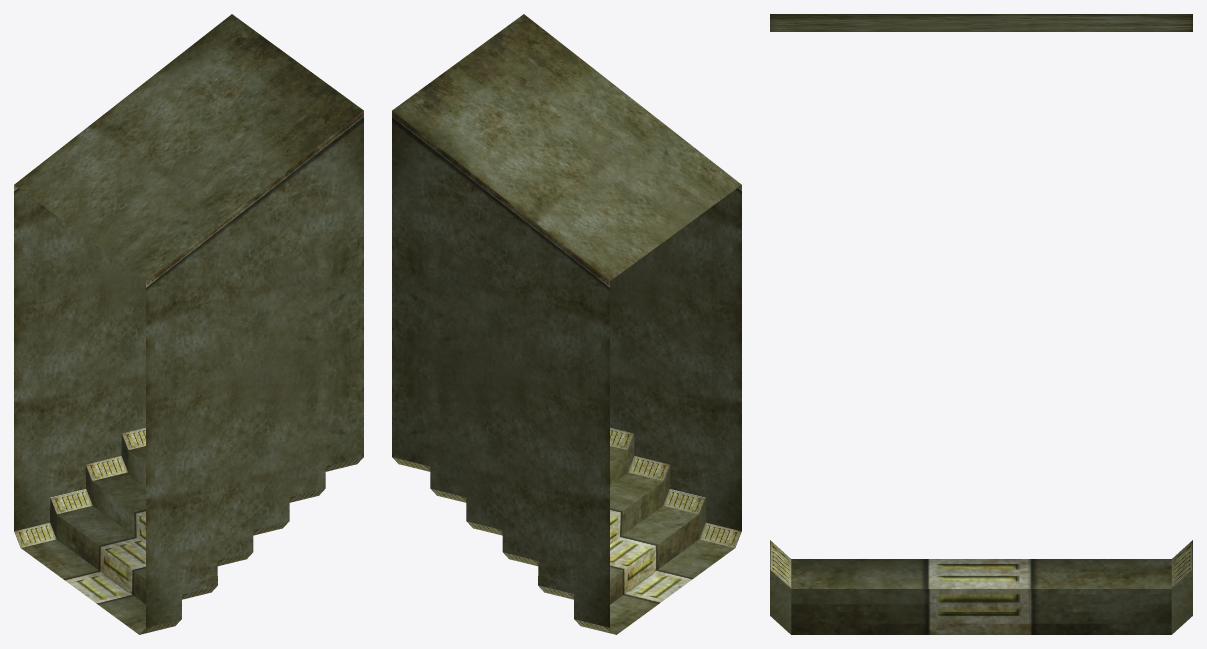
The model's file is Hallway_Stairs.FBX.
The picture shows the model from 3 angles, left to right: view 1: azimuth 30°, elevation 25°; view 2: azimuth 150°, elevation 25°; view 3: azimuth 270°, elevation 25°; orthographic projection. The views are drawn at different scales.
Visible parts, largest first — view 1: Hallway_Segment001; view 2: Hallway_Segment001; view 3: Hallway_Segment001.
Boxes of the visible parts, x1,y1,x2,y2 form: Hallway_Segment001: (14,14,363,634); Hallway_Segment001: (392,14,741,634); Hallway_Segment001: (770,14,1192,634).
Size of the model in its own units: 2.91 by 6.07 by 3.05.
